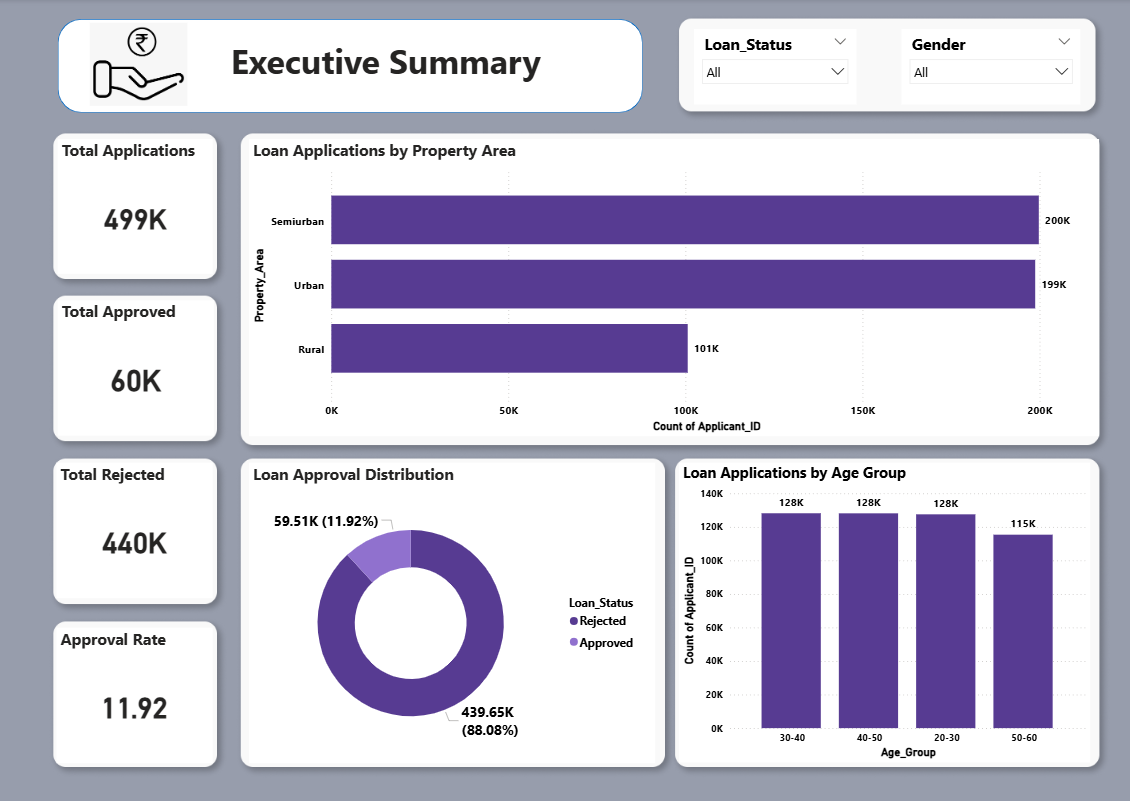

This screenshot's page, from the dashboard's own definition file:
{"tool":"powerbi","page":{"name":"Executive Summary","canvas":[1440,1024],"ordinal":0},"visuals":[{"type":"card","title":"Total Applications","fields":{"Values":["loan_analysis loan_dataset.Total Applications"]},"box":[74.6,177.9,196.9,171.5],"z":0},{"type":"card","title":"Total Approved","fields":{"Values":["loan_analysis loan_dataset.Total Approved"]},"box":[74.7,383.1,198,172],"z":1000},{"type":"card","title":"Total Rejected","fields":{"Values":["loan_analysis loan_dataset.Total Rejected"]},"box":[73,589.2,198,172],"z":2000},{"type":"card","title":"Approval Rate","fields":{"Values":["loan_analysis loan_dataset.Approval Rate"]},"box":[73,798.6,198,172],"z":3000},{"type":"barChart","title":"Loan Applications by Property Area","fields":{"Category":["loan_analysis loan_dataset.Property_Area"],"Y":["CountNonNull(loan_analysis loan_dataset.Applicant_ID)"]},"box":[317.6,177.9,1079.9,378],"z":4000},{"type":"donutChart","title":"Loan Approval Distribution","fields":{"Category":["loan_analysis loan_dataset.Loan_Status"],"Y":["CountNonNull(loan_analysis loan_dataset.Applicant_ID)"]},"box":[318.1,589.2,516.1,381.4],"z":5000},{"type":"columnChart","title":"Loan Applications by Age Group","fields":{"Category":["loan_analysis loan_dataset.Age_Group"],"Y":["CountNonNull(loan_analysis loan_dataset.Applicant_ID)"]},"box":[863.9,589.2,522.5,381.1],"z":6000},{"type":"slicer","fields":{"Values":["loan_analysis loan_dataset.Loan_Status"]},"box":[883,37.3,206.1,95.8],"z":7000},{"type":"slicer","fields":{"Values":["loan_analysis loan_dataset.Gender"]},"box":[1145.9,37.3,227.2,95.8],"z":8000},{"type":"shape","box":[74.6,25.4,743.2,119.1],"z":9000},{"type":"textbox","box":[92.1,38.1,709.9,95.3],"z":10000},{"type":"image","box":[92.5,30.8,170.4,105.5],"z":11000}]}

Visuals, with their boxes in screenshot pixels (x1, y1, x2, y2), scaled from the page's 1440x1024 canvas onto the 1130x801 screenshot:
"Total Applications" card: pyautogui.locateOnScreen(59, 139, 213, 273)
"Total Approved" card: pyautogui.locateOnScreen(59, 300, 214, 434)
"Total Rejected" card: pyautogui.locateOnScreen(57, 461, 213, 595)
"Approval Rate" card: pyautogui.locateOnScreen(57, 625, 213, 759)
"Loan Applications by Property Area" barChart: pyautogui.locateOnScreen(249, 139, 1097, 435)
"Loan Approval Distribution" donutChart: pyautogui.locateOnScreen(250, 461, 655, 759)
"Loan Applications by Age Group" columnChart: pyautogui.locateOnScreen(678, 461, 1088, 759)
slicer - loan_analysis loan_dataset.Loan_Status: pyautogui.locateOnScreen(693, 29, 855, 104)
slicer - loan_analysis loan_dataset.Gender: pyautogui.locateOnScreen(899, 29, 1078, 104)
shape: pyautogui.locateOnScreen(59, 20, 642, 113)
textbox: pyautogui.locateOnScreen(72, 30, 629, 104)
image: pyautogui.locateOnScreen(73, 24, 206, 107)
